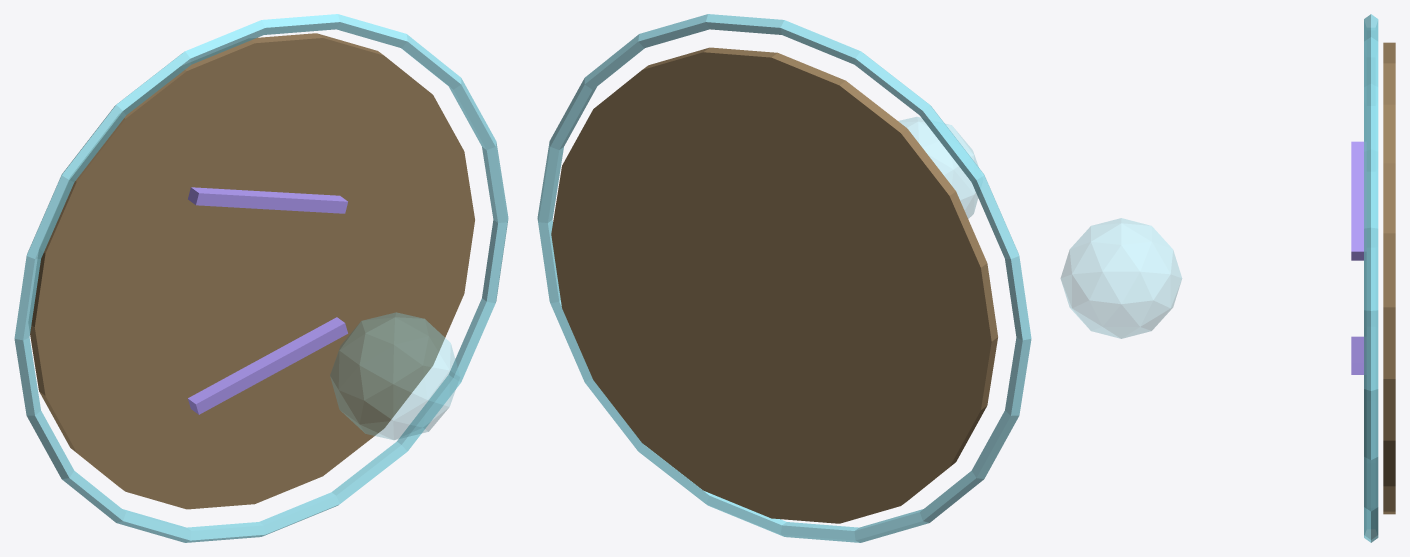
File: 07_weather_terrain_nature_effect.glb
3 views of the same model, side by side, from view 1: azimuth 30°, elevation 25°; view 2: azimuth 150°, elevation 25°; view 3: azimuth 270°, elevation 25° (orthographic). The views are drawn at different scales.
Parts seen in each view (by area): view 1: terrain_patch, weather_boundary, weather_orb, terrain_marker_a, terrain_marker_b; view 2: terrain_patch, weather_boundary, weather_orb; view 3: weather_orb, weather_boundary, terrain_patch, terrain_marker_b, terrain_marker_a.
Boxes of the visible parts, left/top/right/bottom form: terrain_patch: left=29, top=33, right=474, bottom=509; weather_boundary: left=14, top=14, right=508, bottom=542; weather_orb: left=330, top=312, right=459, bottom=439; terrain_marker_a: left=188, top=317, right=347, bottom=414; terrain_marker_b: left=188, top=187, right=347, bottom=213; terrain_patch: left=551, top=47, right=997, bottom=523; weather_boundary: left=537, top=14, right=1031, bottom=542; weather_orb: left=898, top=117, right=978, bottom=218; weather_orb: left=1060, top=218, right=1181, bottom=338; weather_boundary: left=1364, top=14, right=1378, bottom=542; terrain_patch: left=1383, top=42, right=1395, bottom=514; terrain_marker_b: left=1351, top=141, right=1365, bottom=260; terrain_marker_a: left=1351, top=336, right=1365, bottom=374.
Bounding box in the file's own units: 1.75 × 1.75 × 1.1.
